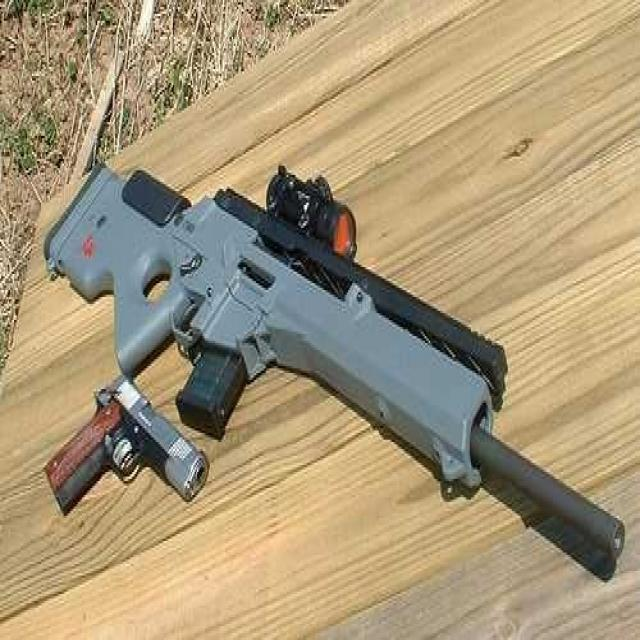weapon: (45, 118, 630, 576)
